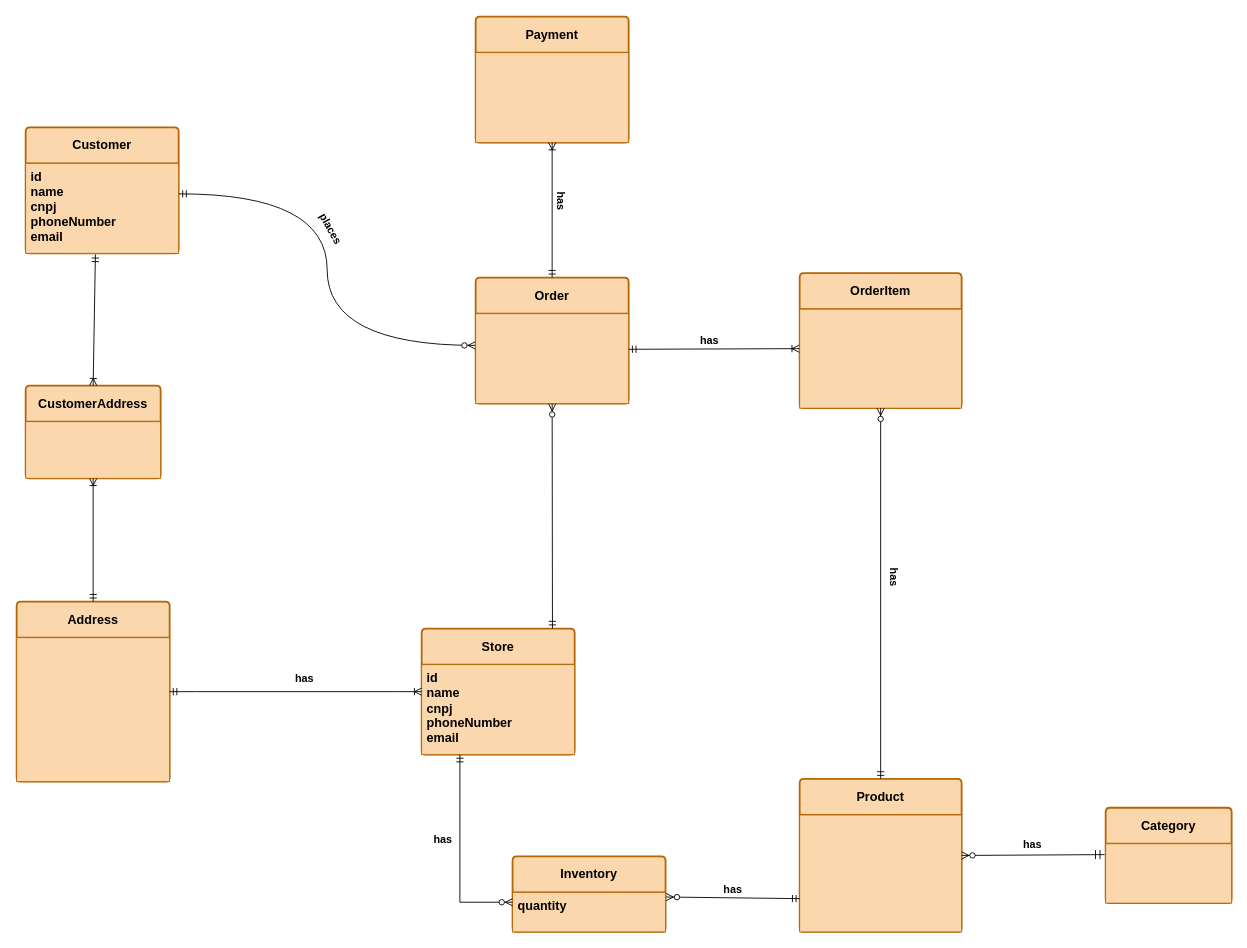
The diagram is 1247 pixels wide and 948 high, and some of its shapes have lost their labels. Here are the shapes that lost their labels. From the top down, the centre of each, then its label:
At (552,97): "id date method amount".
At (552,358): "id status date totalAmount".
At (880,358): "id salePrice quantity".
At (93,709): "id street neighbourhood complement number city state zip".
At (880,873): "id name description barcode photo salePrice costPrice".
At (1168,873): "id name".
